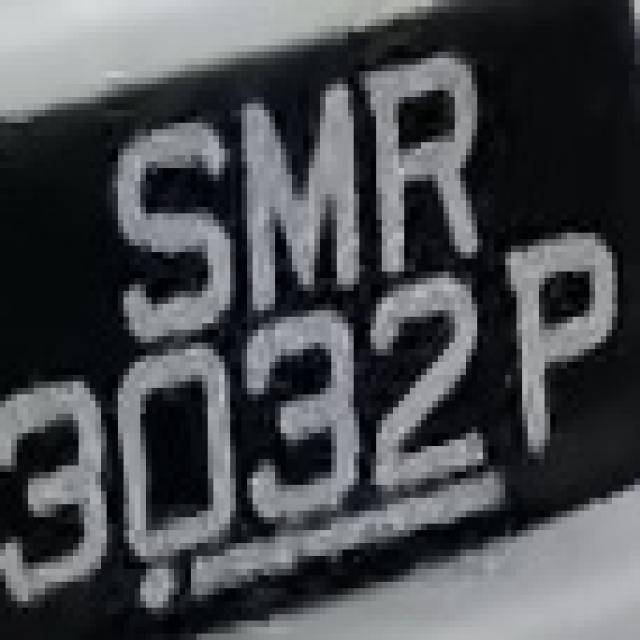0: (106, 330, 252, 582)
2: (359, 272, 500, 517)
3: (242, 298, 371, 536), (17, 349, 118, 608)
M: (208, 65, 365, 323)
P: (483, 207, 629, 465)
R: (342, 39, 500, 271)
S: (107, 90, 230, 342)
